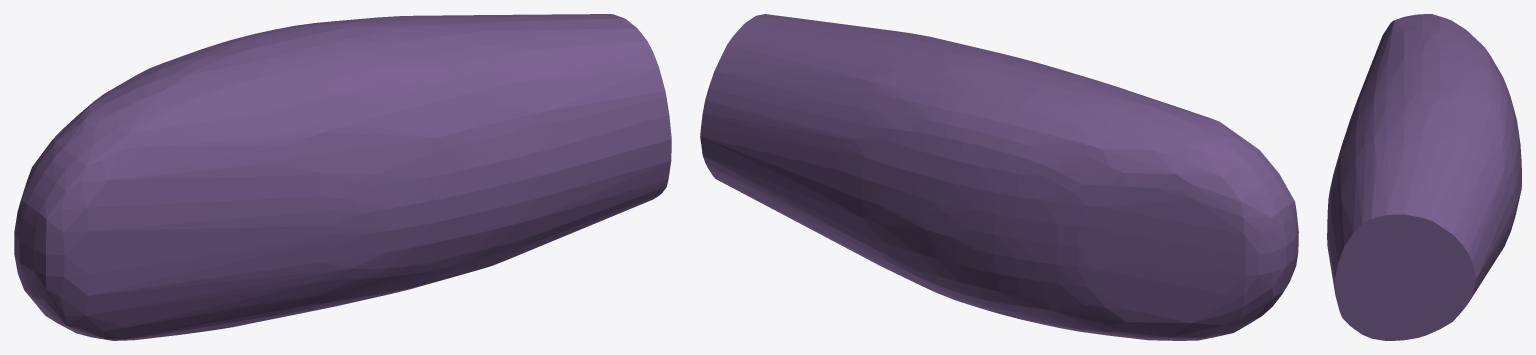
3 views of the same model, side by side, from view 1: azimuth 30°, elevation 25°; view 2: azimuth 150°, elevation 25°; view 3: azimuth 270°, elevation 25° (orthographic). The views are drawn at different scales.
Bounding box in the file's own units: 0.0909 × 0.0364 × 0.0344.
